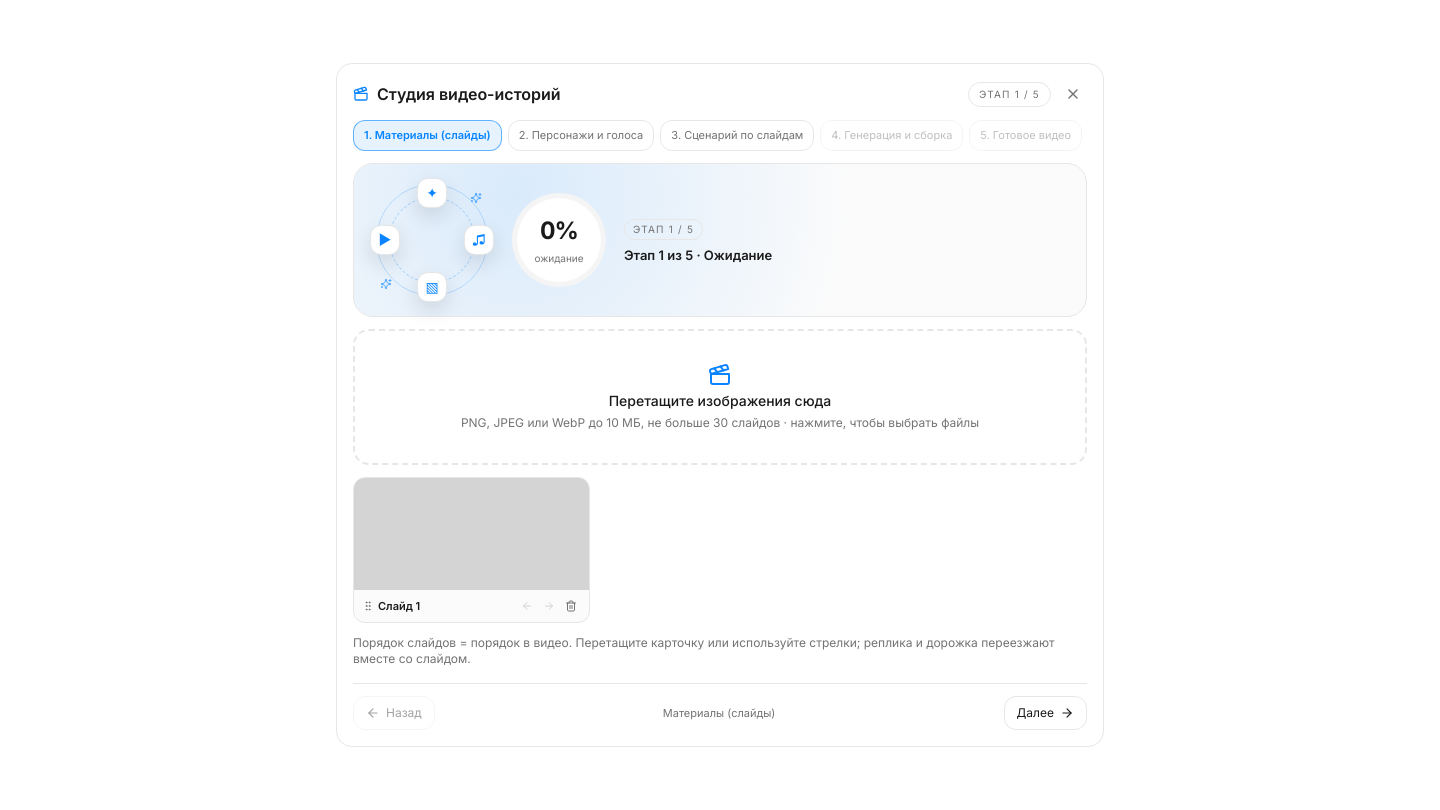
Test: студия: этап 4 — генерация и сборка › «Стоп» прерывает сборку без ошибки
This screenshot has width=1440, height=810.
Earlier steps of the test are not shown.
Click the button with test id "story-stage-3". click: (737, 136)
box: [660,120,814,151]
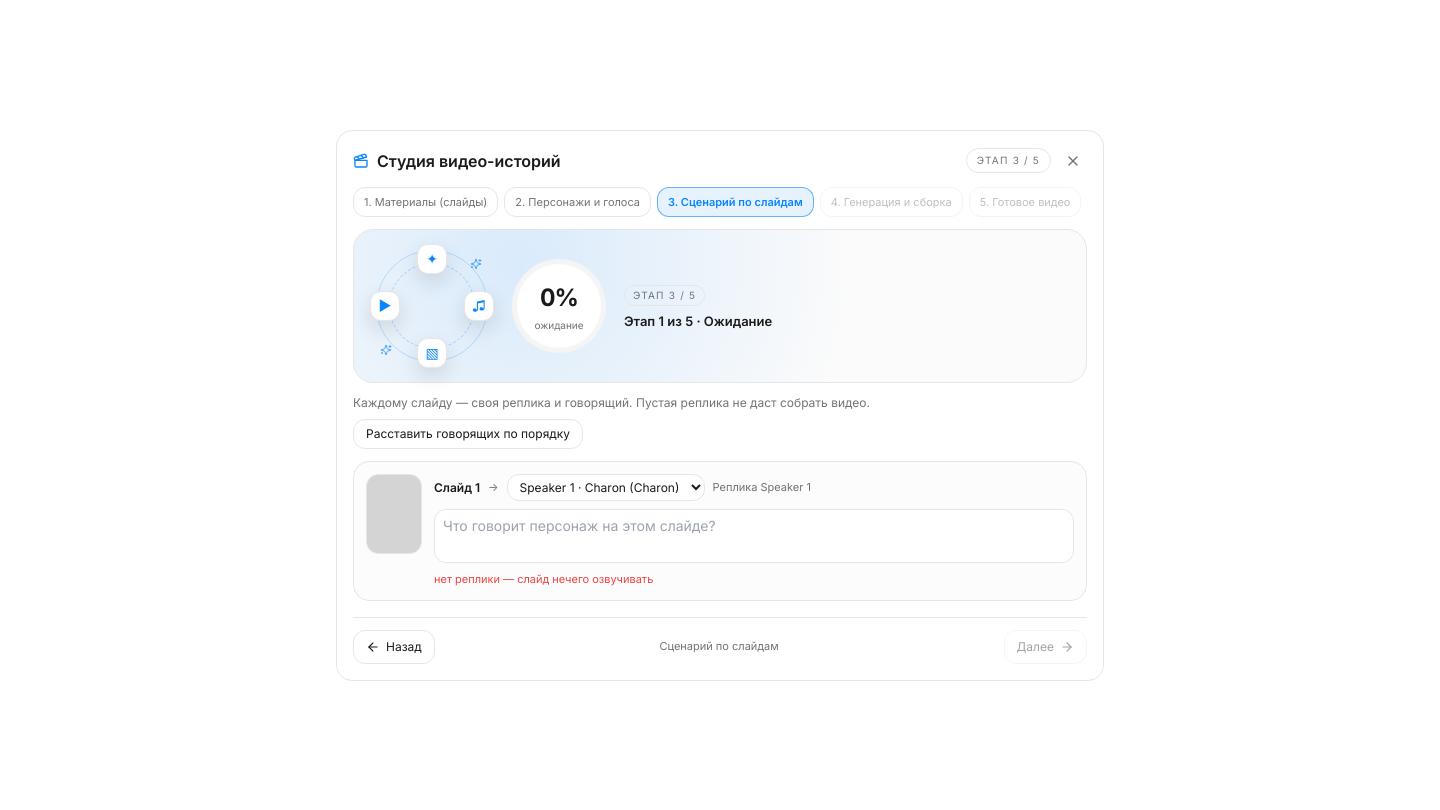
Result: the text box with test id "story-script-1" is shown
Type "Реплика слайда 1" into the text box with test id "story-script-1". click: (754, 536)
box: [434,509,1074,563]
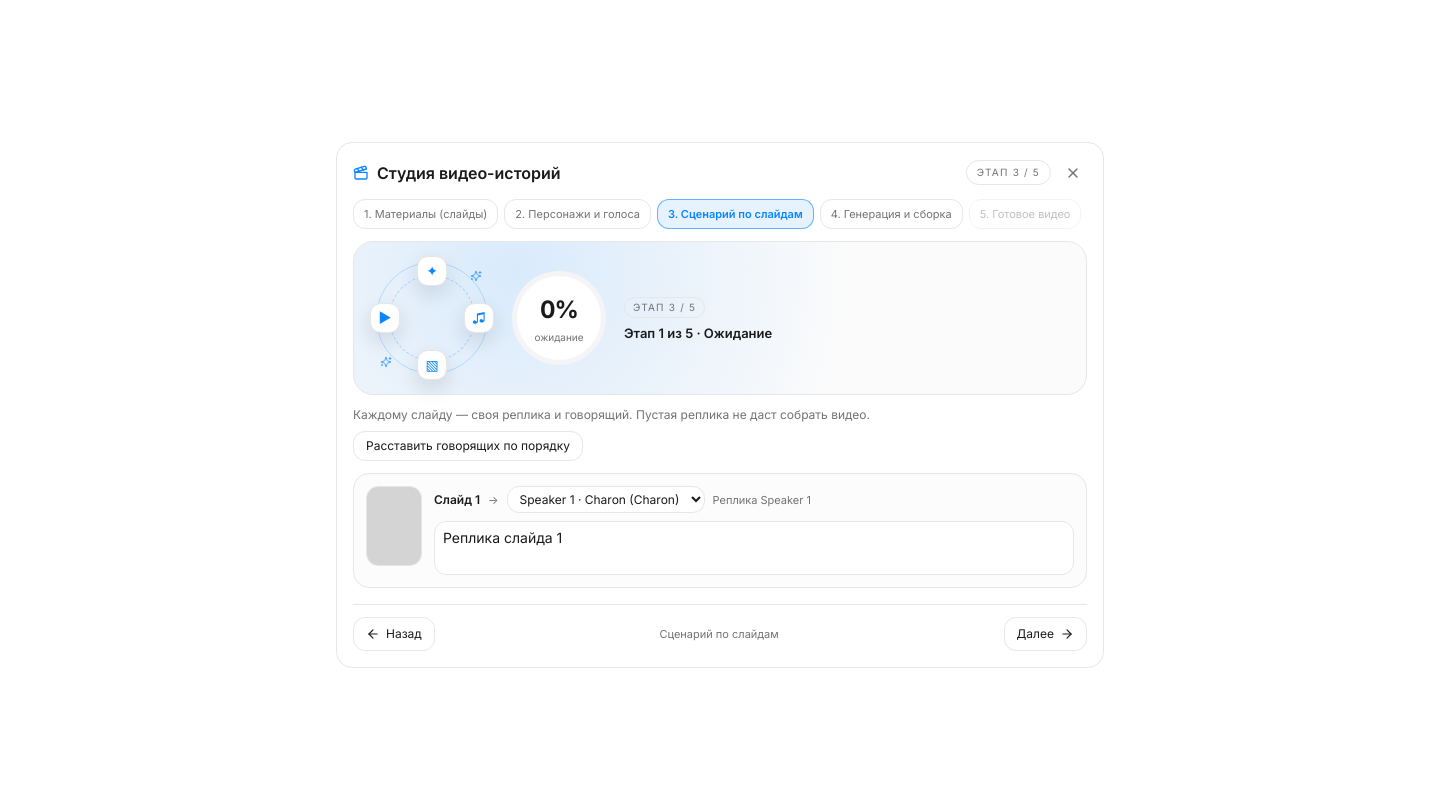
Click the button with test id "story-stage-4". click: (891, 214)
box: [820,199,963,229]
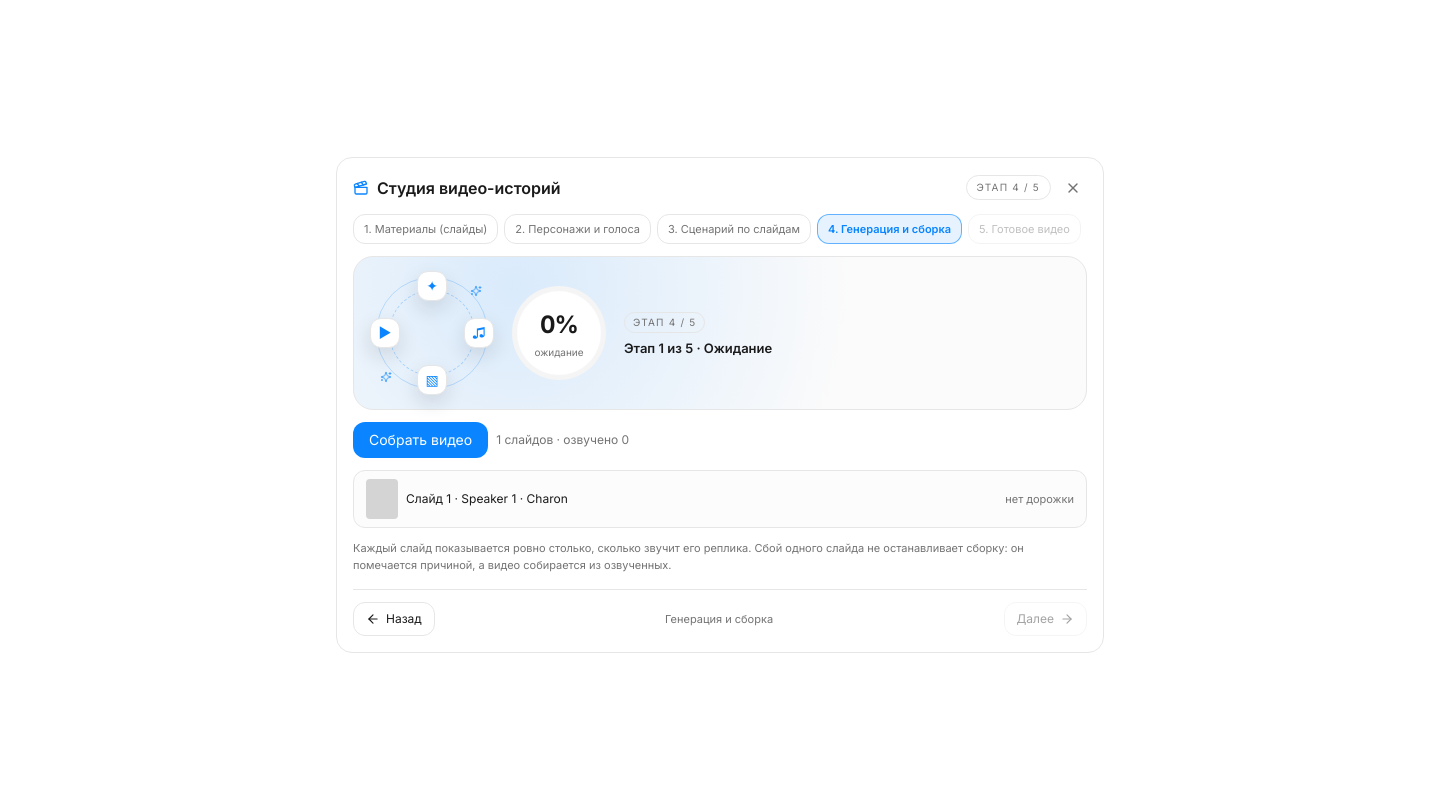
Click the button with test id "story-generate". click: (421, 440)
box: [353,422,488,458]
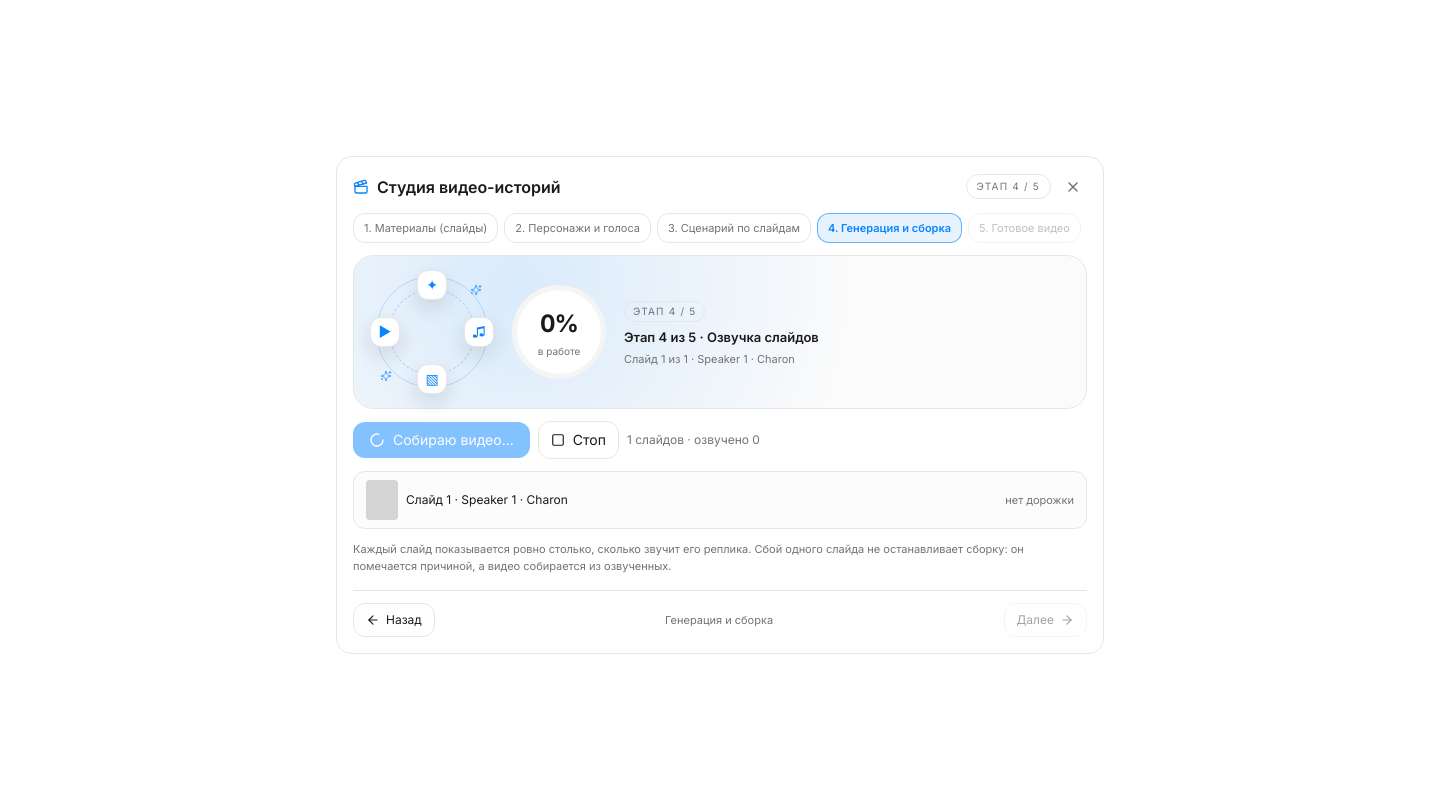
Result: the button with test id "story-stop" is shown
Click the button with test id "story-stop". click: (578, 440)
box: [538,421,619,459]
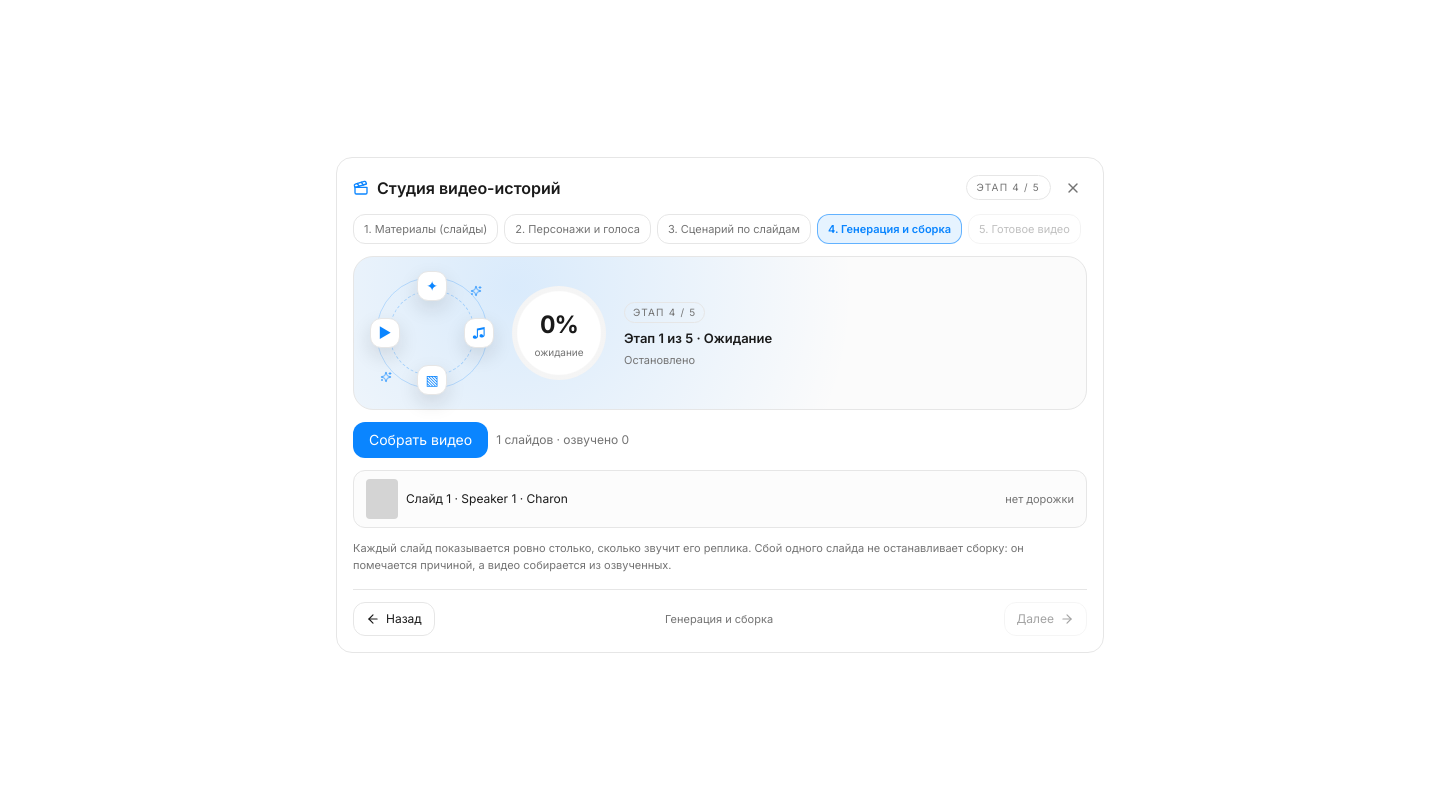
Result: the button with test id "story-stop" is gone
